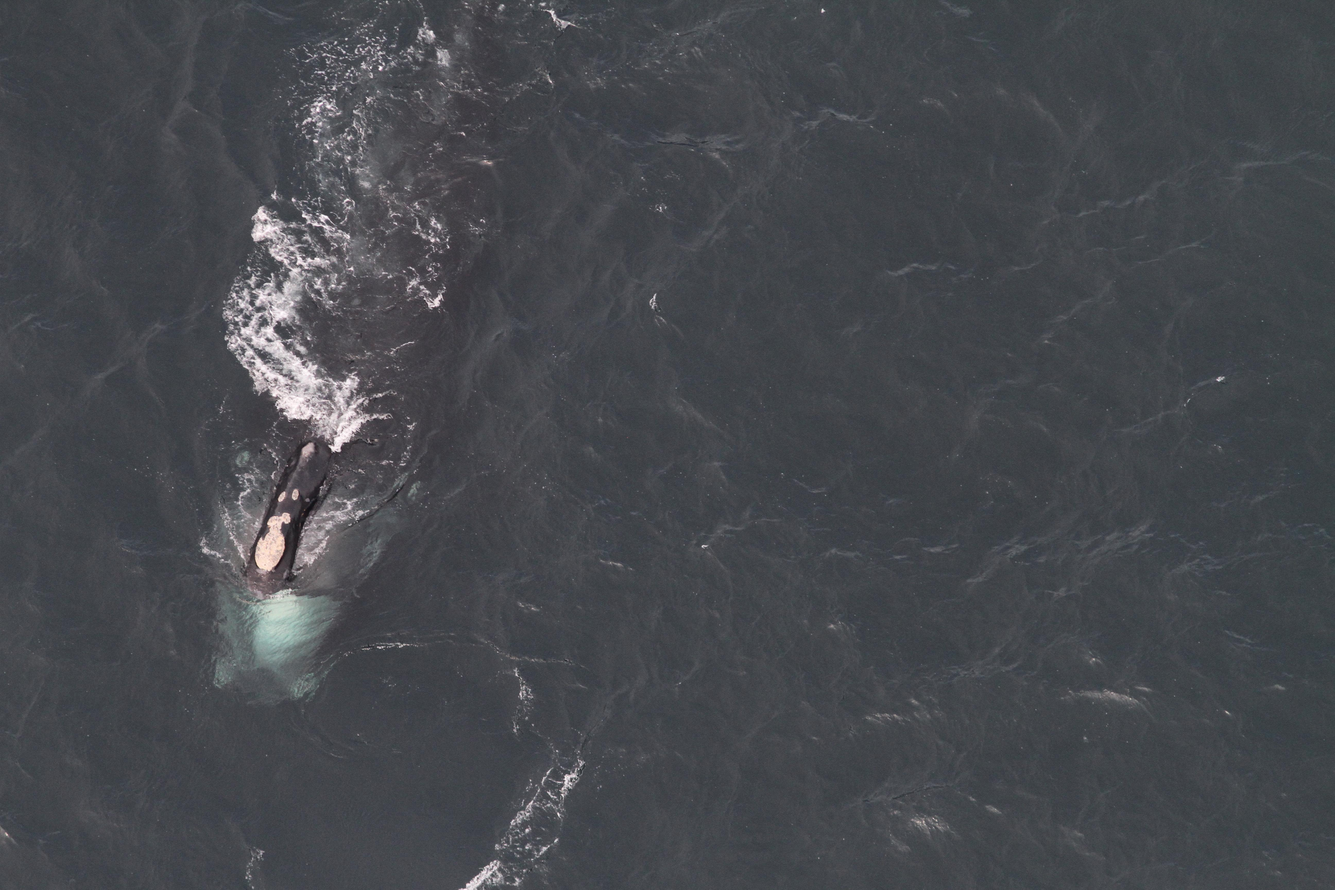whale: (196, 0, 517, 714)
